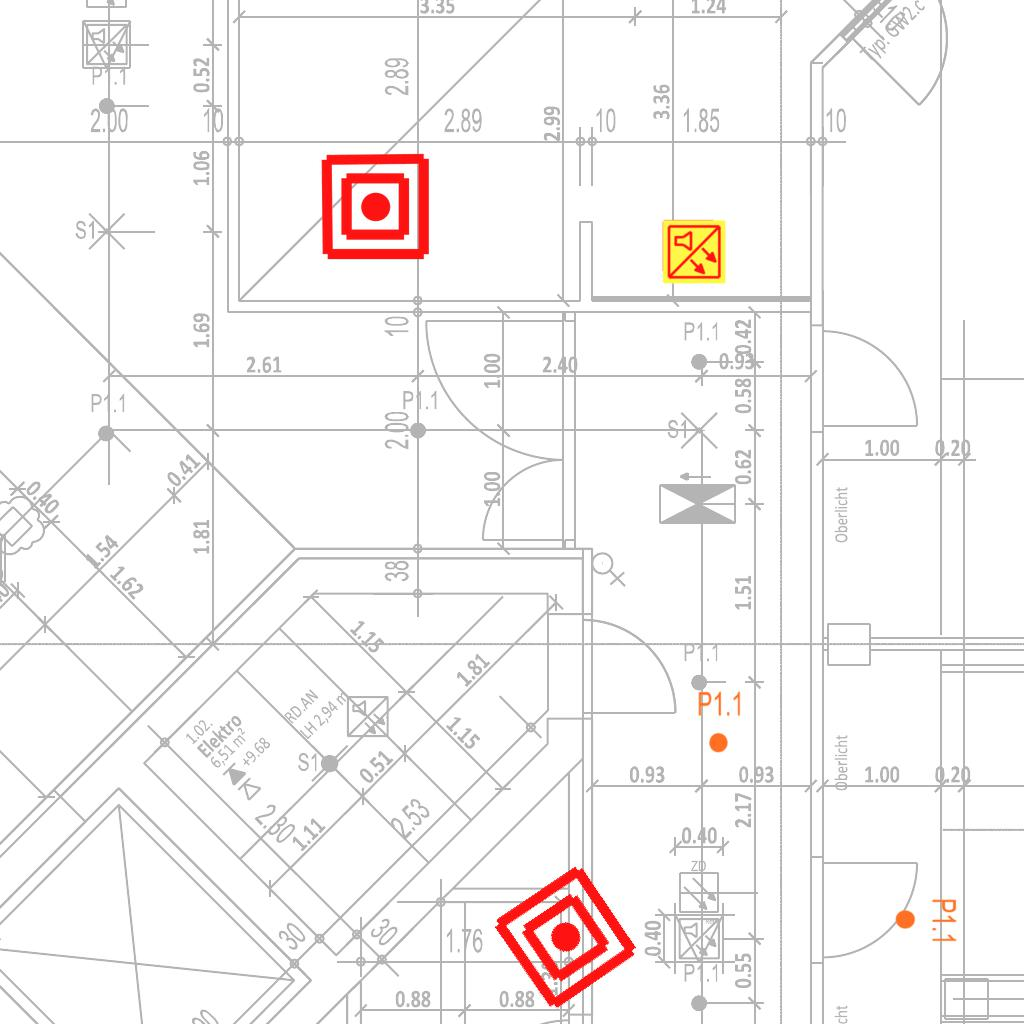Downlight_LED_Einbauleuchten_Flur: (894, 898, 958, 944), (697, 690, 743, 754)
NAM-Nichtautomatischer_Melder: (487, 859, 644, 1016), (319, 150, 432, 263)
OKW_Multisensormelder_(Kombination_optischer_Rauch-Kahlenmonoxid_Waerme-Melder): (661, 219, 727, 285)
